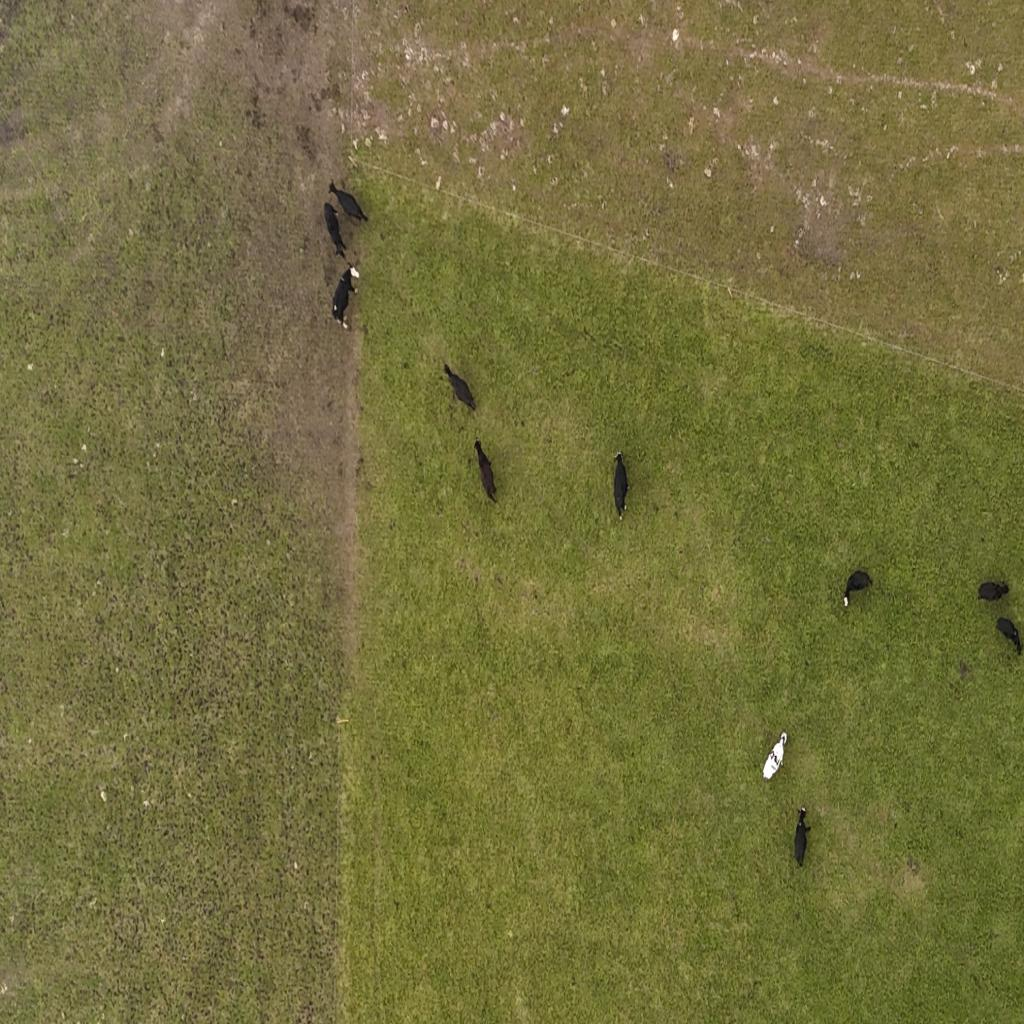cow: (328, 178, 368, 224), (332, 266, 360, 330), (442, 362, 476, 413), (473, 436, 497, 504), (324, 200, 348, 260), (841, 568, 873, 610), (762, 733, 788, 782), (612, 452, 630, 521), (793, 805, 811, 867), (996, 617, 1023, 654), (977, 581, 1010, 602)
